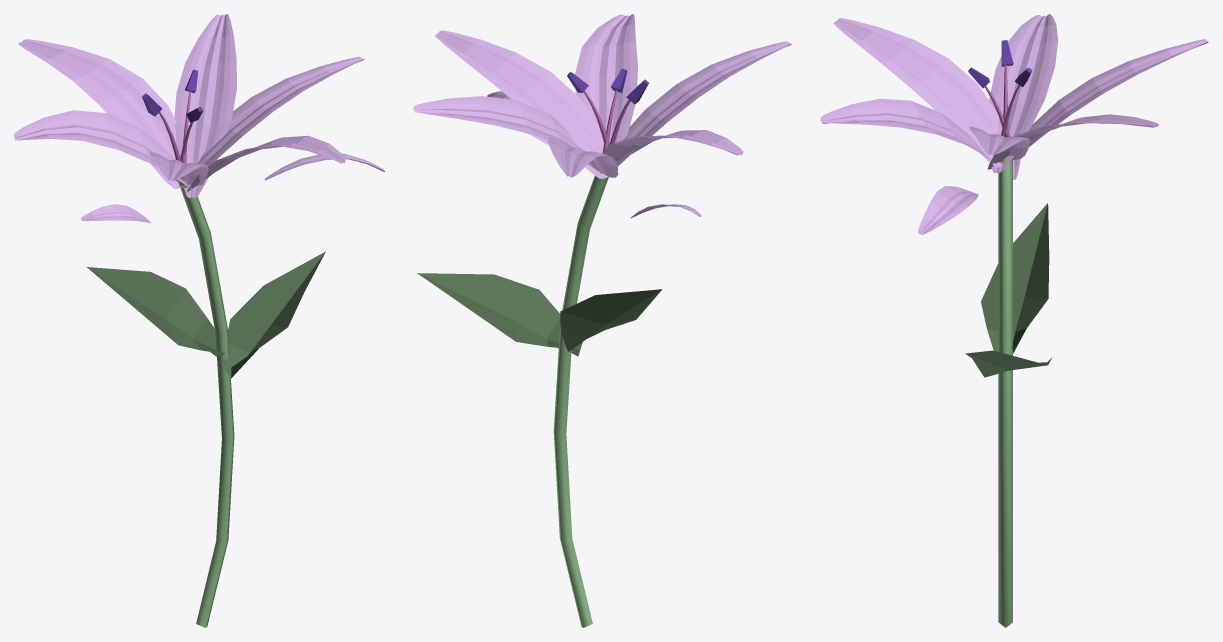
File: purplily.glb
The picture shows the model from 3 angles, left to right: view 1: azimuth 30°, elevation 25°; view 2: azimuth 150°, elevation 25°; view 3: azimuth 270°, elevation 25°; orthographic projection. The views are drawn at different scales.
Parts seen in each view (by area): view 1: Plane.014; view 2: Plane.014; view 3: Plane.014.
Part boxes in pixels (x1,y1,x2,y2): Plane.014: (14, 14, 384, 627); Plane.014: (413, 14, 791, 627); Plane.014: (820, 14, 1208, 627).
Size of the model in its own units: 3.64 by 5.91 by 3.72.
